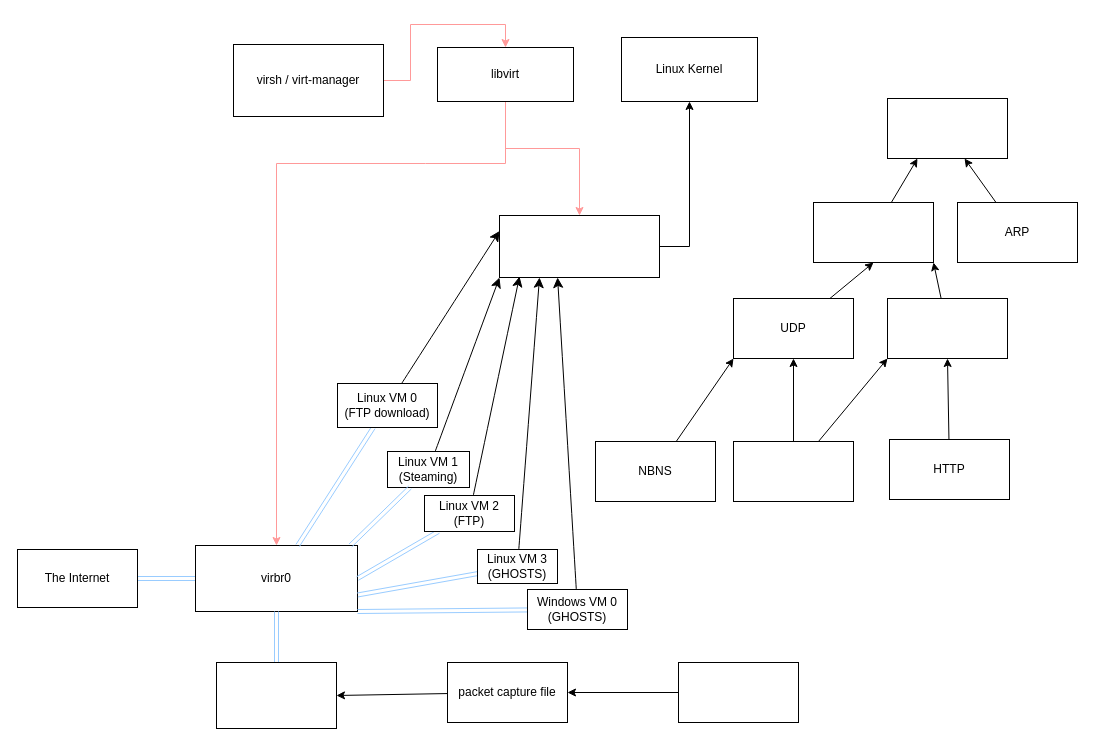
This 1095x746 diagram has some shape labels left out. The shapes that lost their labels are listed below. From the top down, each one's box as (x1, y1, x2, y2) in pixels, then its label:
(886, 98, 1008, 158): Ether
(498, 214, 660, 278): QEMU
(812, 202, 934, 262): IP
(886, 298, 1008, 358): TCP
(732, 440, 854, 502): TLS
(216, 662, 336, 728): wireshark
(678, 662, 798, 722): Python scripts
